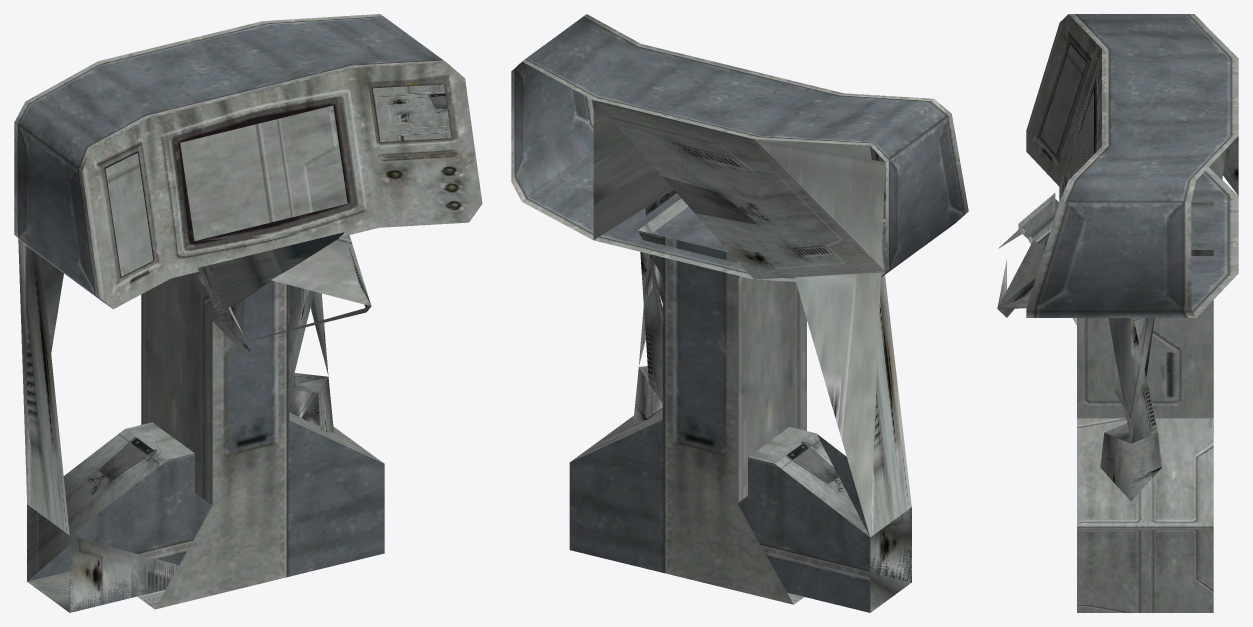
Rendered from ksk_all_bank_l1.fbx.
The picture shows the model from 3 angles, left to right: view 1: azimuth 30°, elevation 25°; view 2: azimuth 150°, elevation 25°; view 3: azimuth 270°, elevation 25°; orthographic projection. The views are drawn at different scales.
Parts seen in each view (by area): view 1: mesh_node; view 2: mesh_node; view 3: mesh_node.
Part boxes in pixels (x1=…): mesh_node: x1=14, y1=14, x2=482, y2=612; mesh_node: x1=511, y1=14, x2=968, y2=612; mesh_node: x1=997, y1=14, x2=1238, y2=612.
Bounding box in the file's own units: 1.51 × 1.8 × 0.8584.
2 materials, 2 textured.
